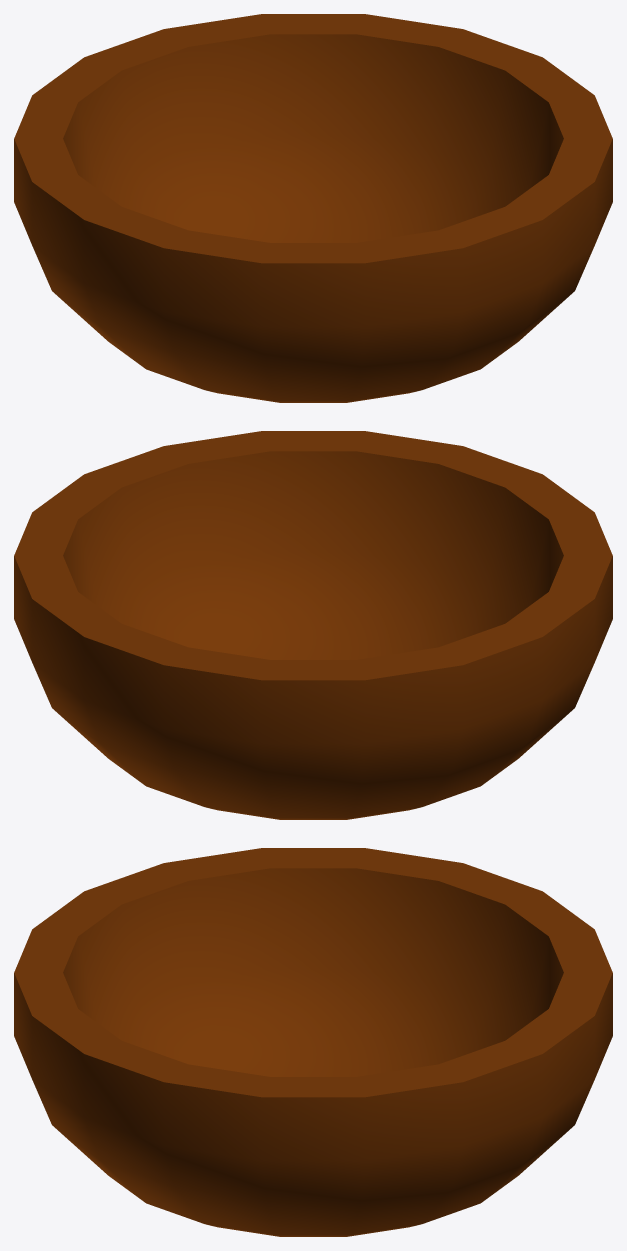
File: Cuenco_Bueno.fbx
3 views of the same model, one above another, from view 1: azimuth 30°, elevation 25°; view 2: azimuth 150°, elevation 25°; view 3: azimuth 270°, elevation 25° (orthographic).
Visible parts, largest first — view 1: cartel; view 2: cartel; view 3: cartel.
Part boxes in pixels (box(x1,y1,x2,y2)): cartel: box(14, 14, 612, 402); cartel: box(14, 431, 612, 819); cartel: box(14, 848, 612, 1236).
Bounding box in the file's own units: 23.39 × 8.05 × 23.75.
